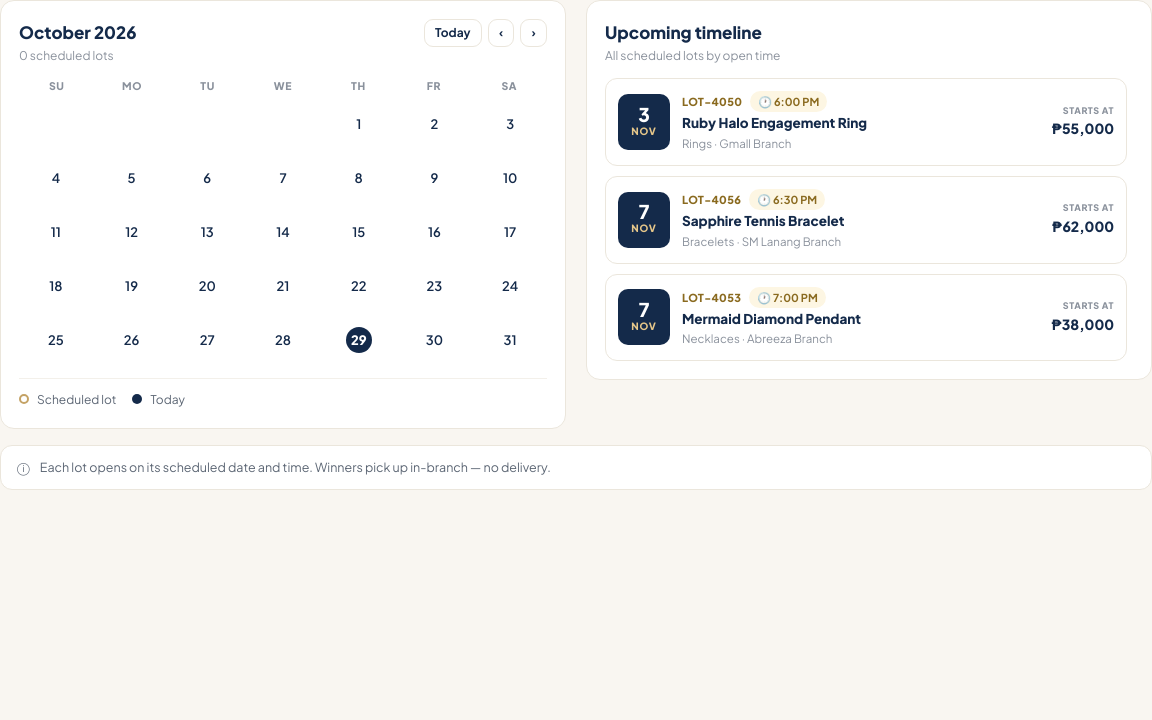
renders current month, week headers, month count
This screenshot has width=1152, height=720.
Expected: the heading "October 2026" is shown, [19,19,136,45]
Expected: the text "SU" is shown, [49,79,65,92]
Click the button named "Next month" at (534, 33), box [520,19,547,47]
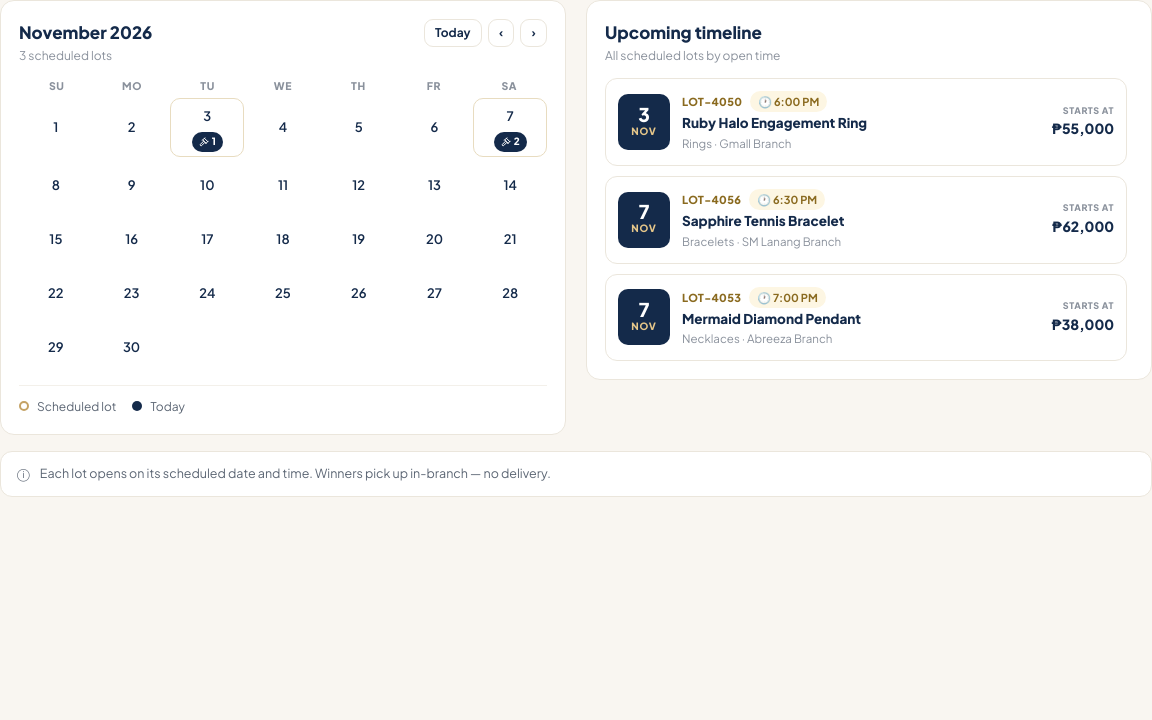
Now the heading "November 2026" is shown, box [19,19,152,45]
Now the text "3 scheduled lots" is shown, box [19,48,112,63]
